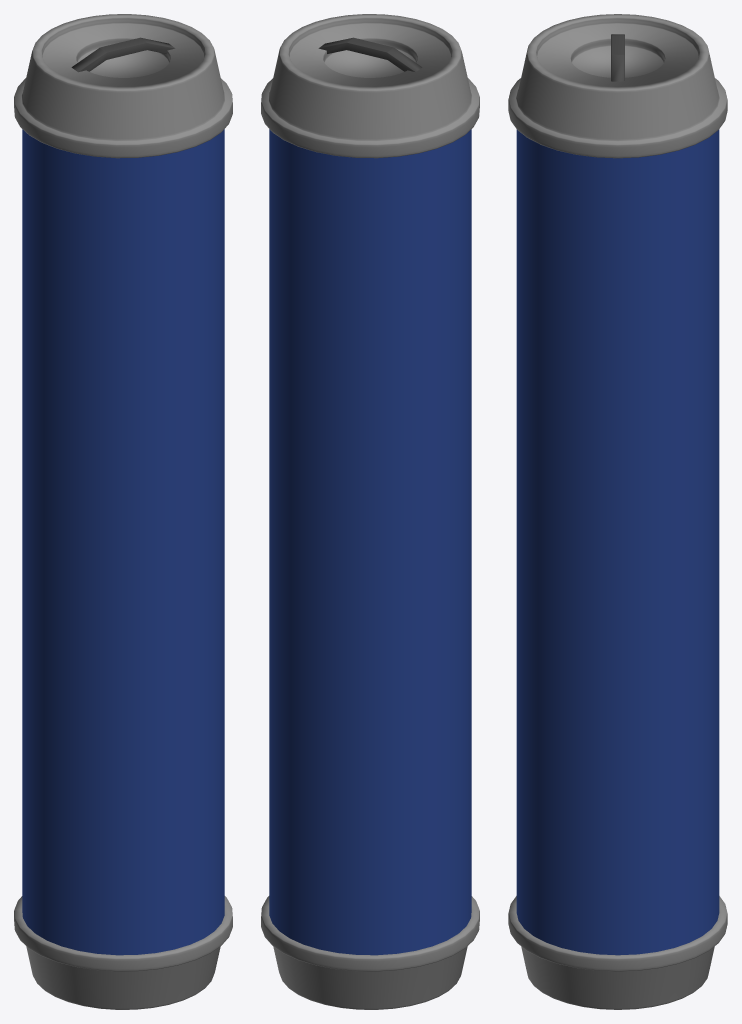
File: ContenitoreCilindrico.fbx
The picture shows the model from 3 angles, left to right: view 1: azimuth 30°, elevation 25°; view 2: azimuth 150°, elevation 25°; view 3: azimuth 270°, elevation 25°; orthographic projection.
Parts seen in each view (by area): view 1: Cilindro, Top&Down, Maniglione; view 2: Cilindro, Top&Down, Maniglione; view 3: Cilindro, Top&Down, Maniglione.
Boxes of the visible parts, x1,y1,x2,y2 form: Cilindro: [22, 129, 224, 955]; Top&Down: [14, 14, 232, 1009]; Maniglione: [71, 37, 175, 72]; Cilindro: [269, 129, 471, 955]; Top&Down: [261, 14, 479, 1009]; Maniglione: [318, 37, 422, 72]; Cilindro: [516, 129, 719, 955]; Top&Down: [508, 14, 727, 1009]; Maniglione: [611, 34, 624, 81].
Bounding box in the file's own units: 21.63 × 101 × 21.63.
